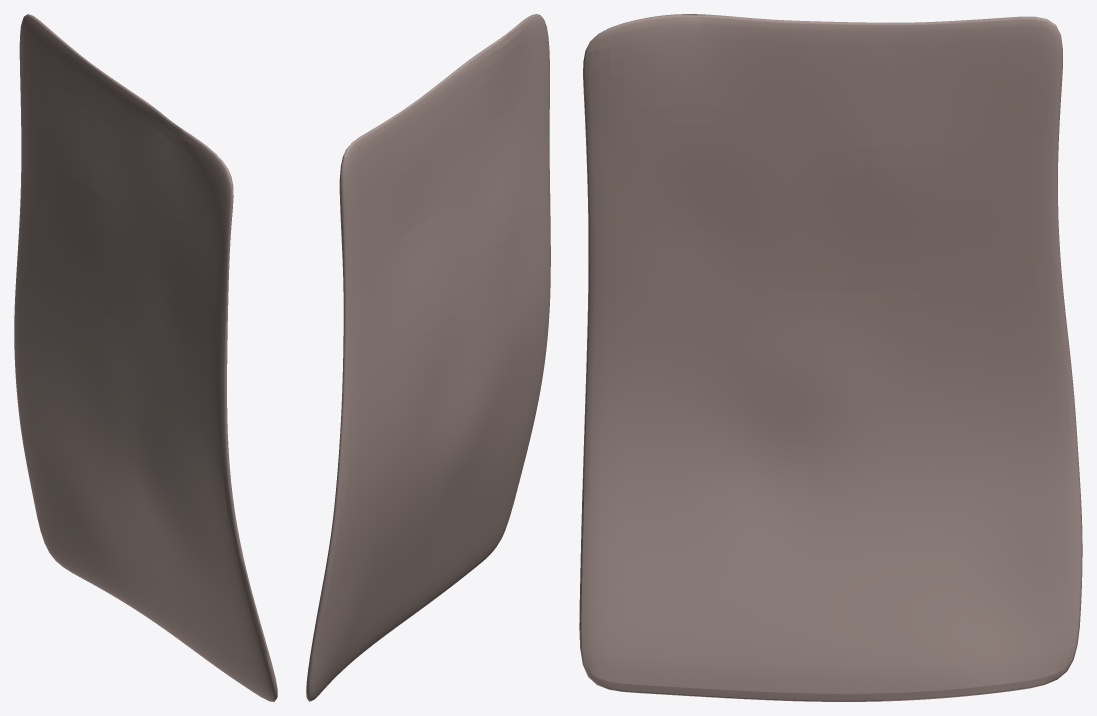
File: Note.fbx
The picture shows the model from 3 angles, left to right: view 1: azimuth 30°, elevation 25°; view 2: azimuth 150°, elevation 25°; view 3: azimuth 270°, elevation 25°; orthographic projection. The views are drawn at different scales.
Visible parts, largest first — view 1: Cube; view 2: Cube; view 3: Cube.
Part boxes in pixels (<box>): Cube: <box>14,14,277,701</box>; Cube: <box>306,14,550,701</box>; Cube: <box>579,14,1082,701</box>.
Size of the model in its own units: 35.07 by 292 by 204.
